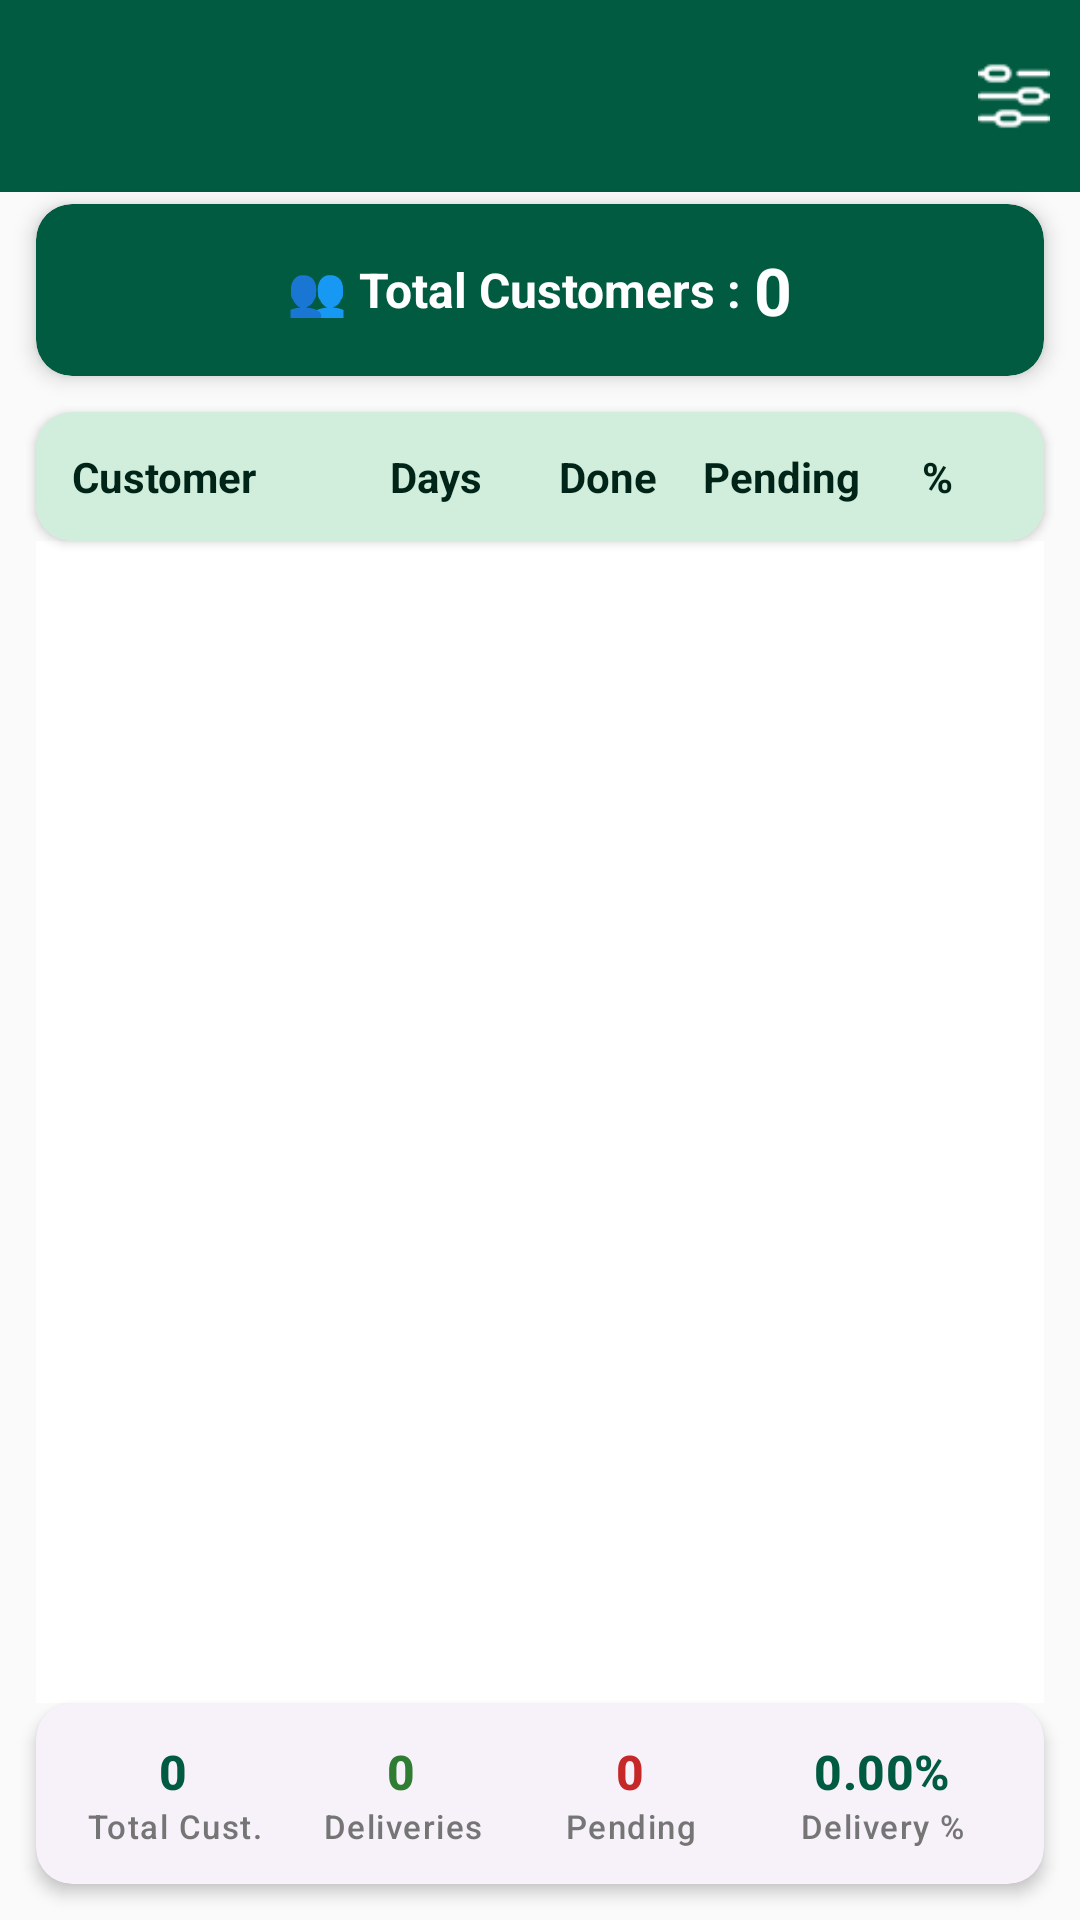

Screen size 1080×1920. Icon name, then its box in pixels as (x1, y1, x2, y2):
filter: (978, 64, 1050, 128)
